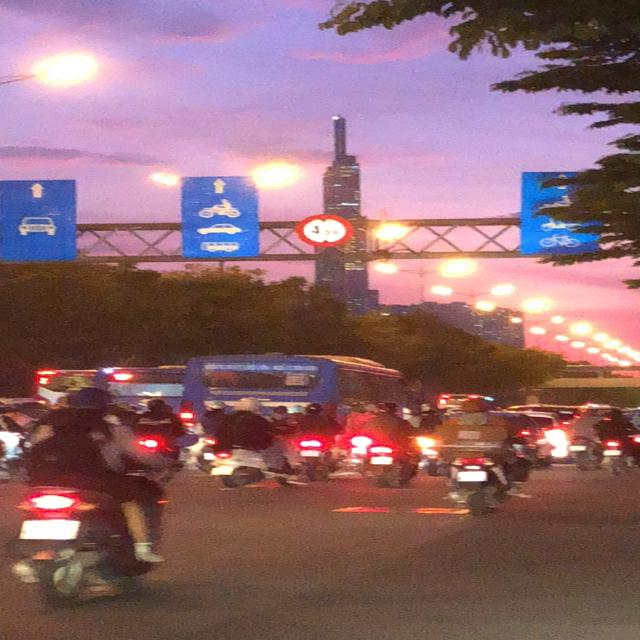Bien bao han che chieu cao: (289, 209, 360, 252)
